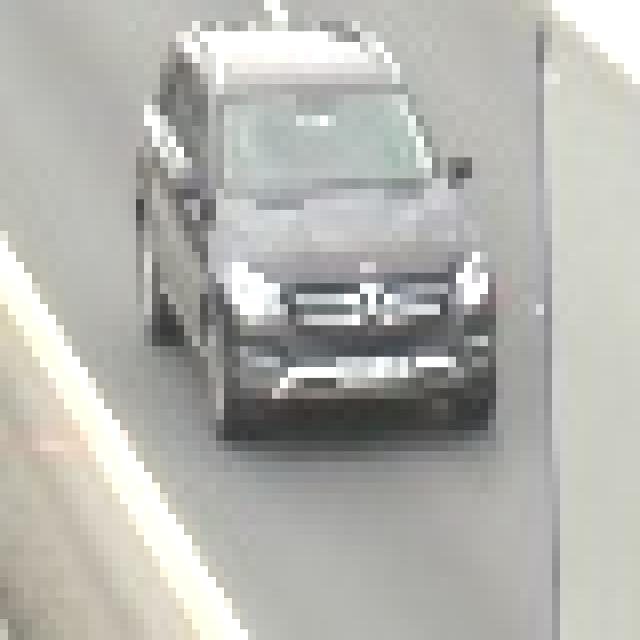SUV: (152, 31, 506, 434)
